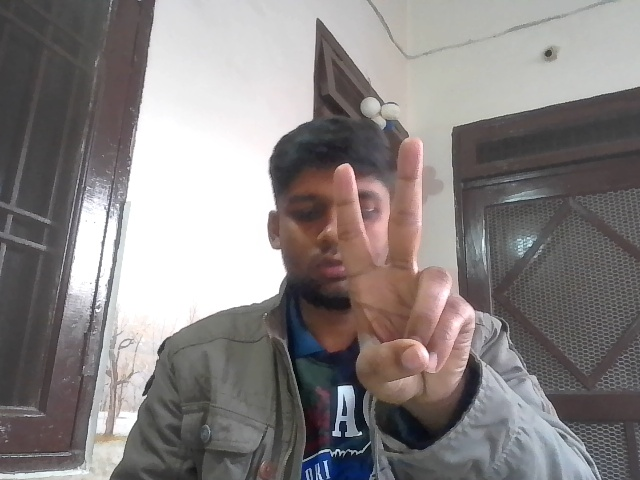Enjoy: (324, 131, 480, 408)
